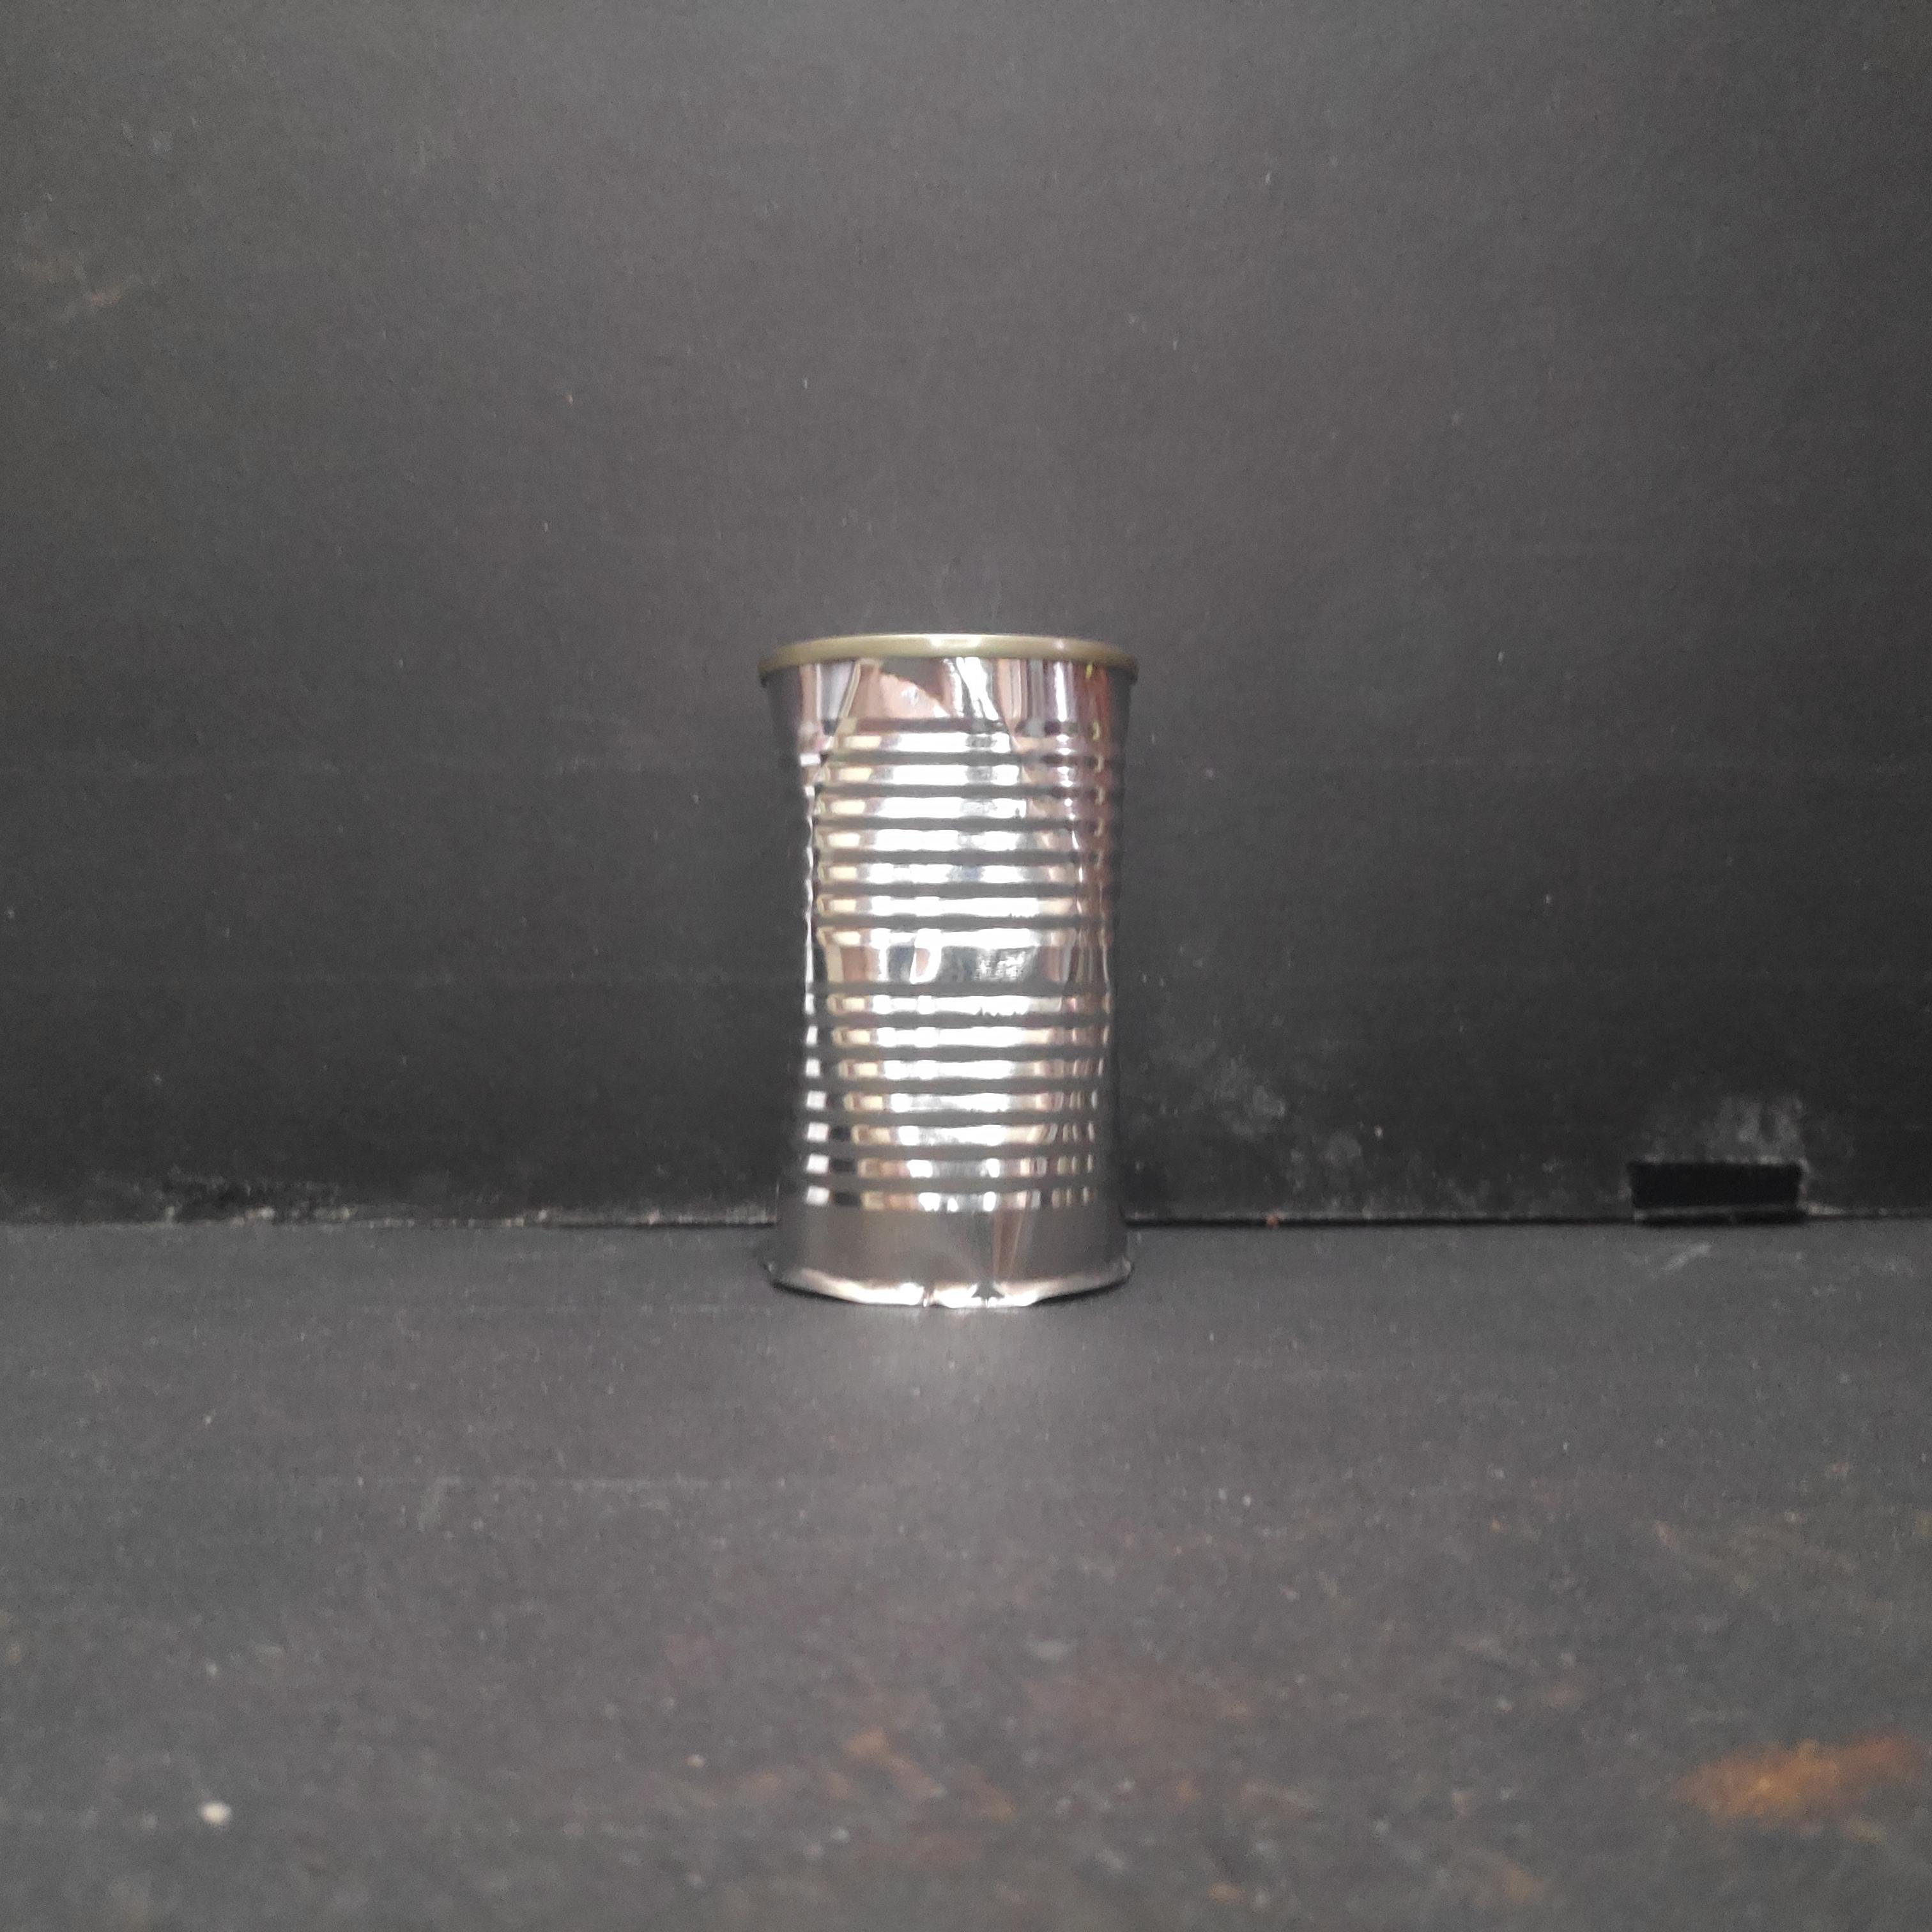Minor Defect: (748, 617, 1157, 1334)
